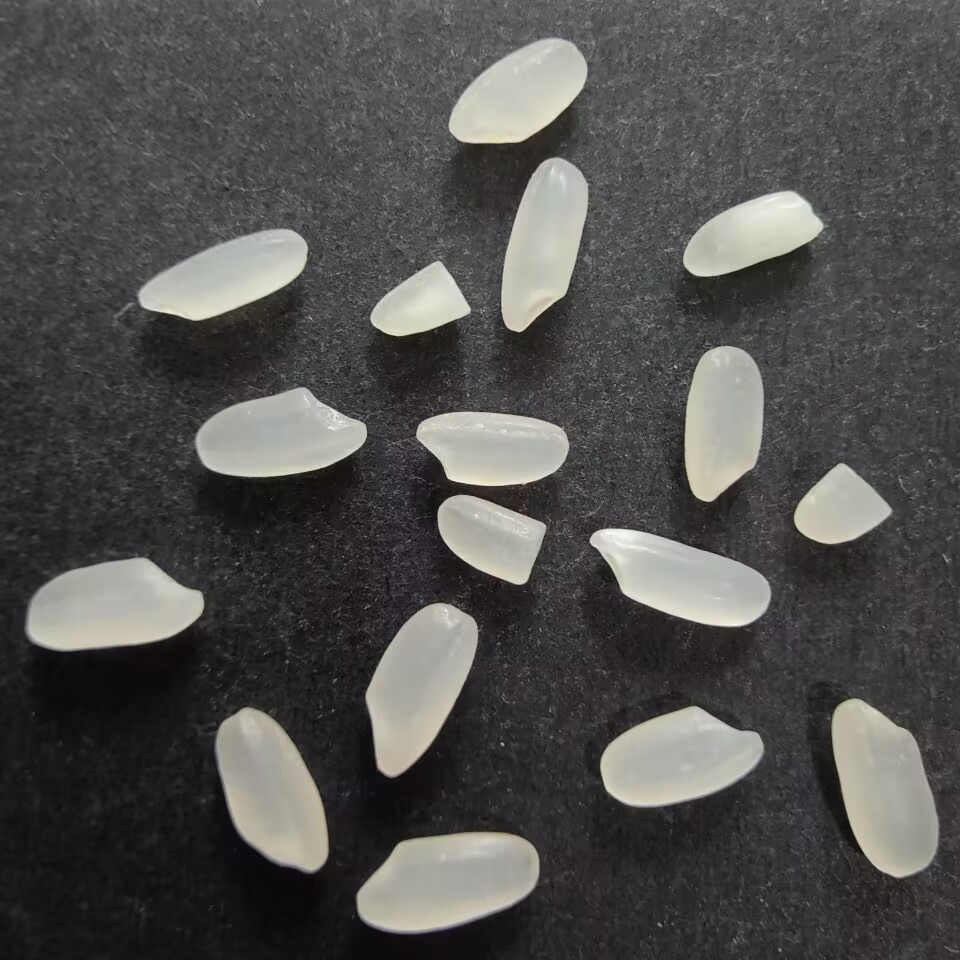broken: (436, 489, 551, 590), (789, 456, 895, 547), (366, 258, 473, 339)
rice: (829, 693, 943, 884), (361, 600, 480, 779), (588, 520, 777, 632), (213, 706, 335, 875), (354, 828, 542, 937), (25, 552, 208, 659), (594, 702, 766, 810), (498, 155, 595, 339), (192, 384, 371, 483), (133, 226, 311, 325), (443, 34, 590, 149), (677, 344, 766, 505), (682, 189, 826, 282), (413, 409, 572, 486)
